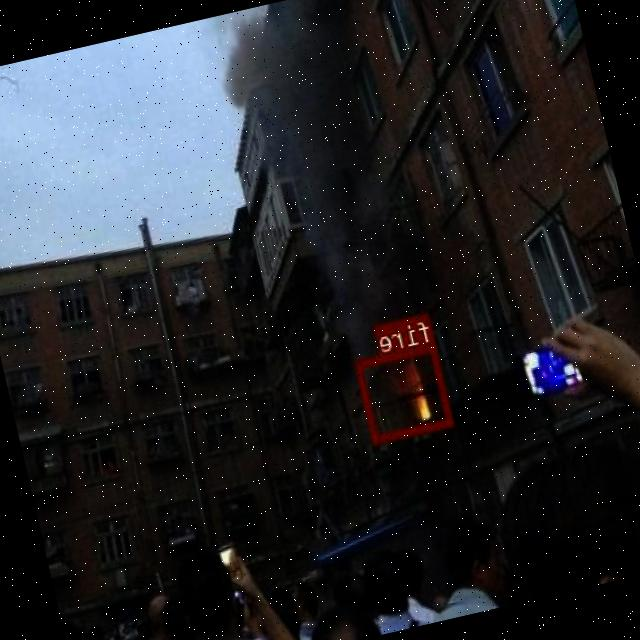fire: (356, 341, 454, 442)
